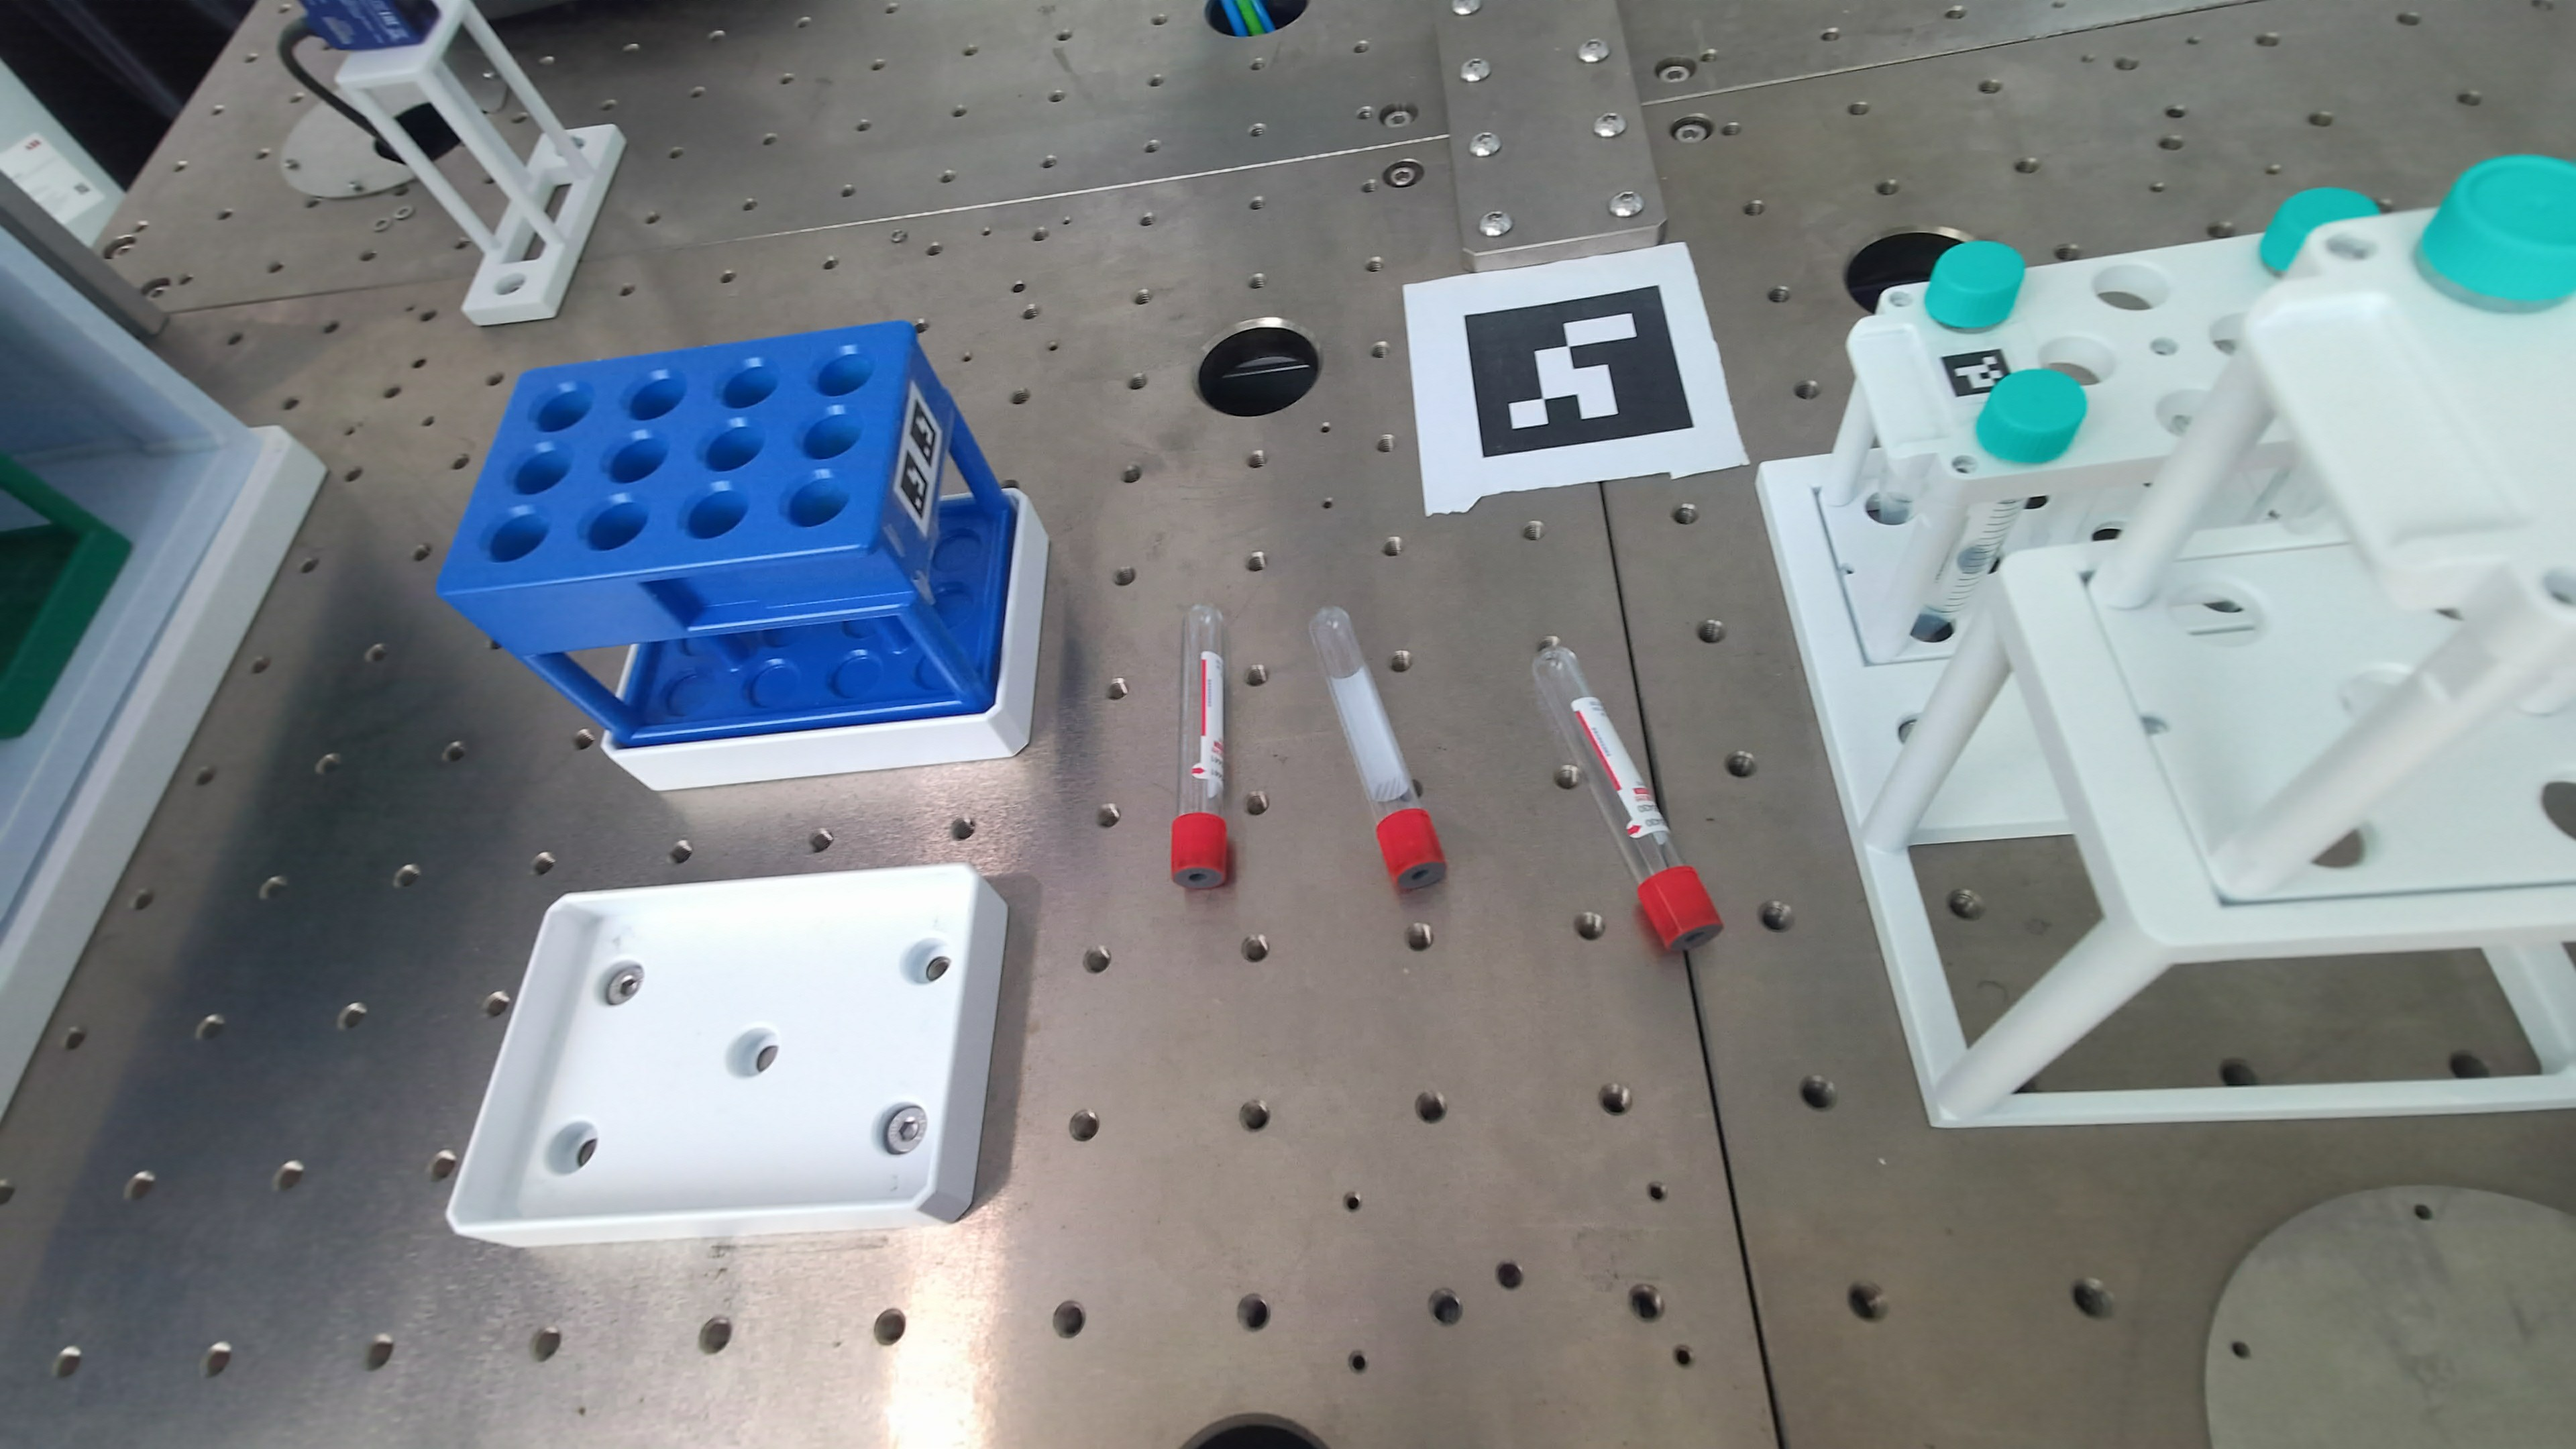10ML_centrifuge_tube: (1913, 369, 2087, 640), (2259, 187, 2378, 274), (1924, 240, 2026, 331)
10ML_sorting_tube_rack: (438, 322, 1016, 747)
5ML_centrifuge_tube: (2420, 155, 2576, 304)
5ML_sorting_tube_rack: (0, 453, 131, 739)
blood_tube: (1533, 647, 1721, 950), (1310, 607, 1446, 891), (1172, 605, 1228, 889)
dispensing_tube_rack: (1760, 158, 2576, 1126)
sorting_tube_rack_base: (448, 864, 1006, 1246), (603, 489, 1049, 790)
tube_rack_storage_cabinet: (0, 231, 323, 1110)
